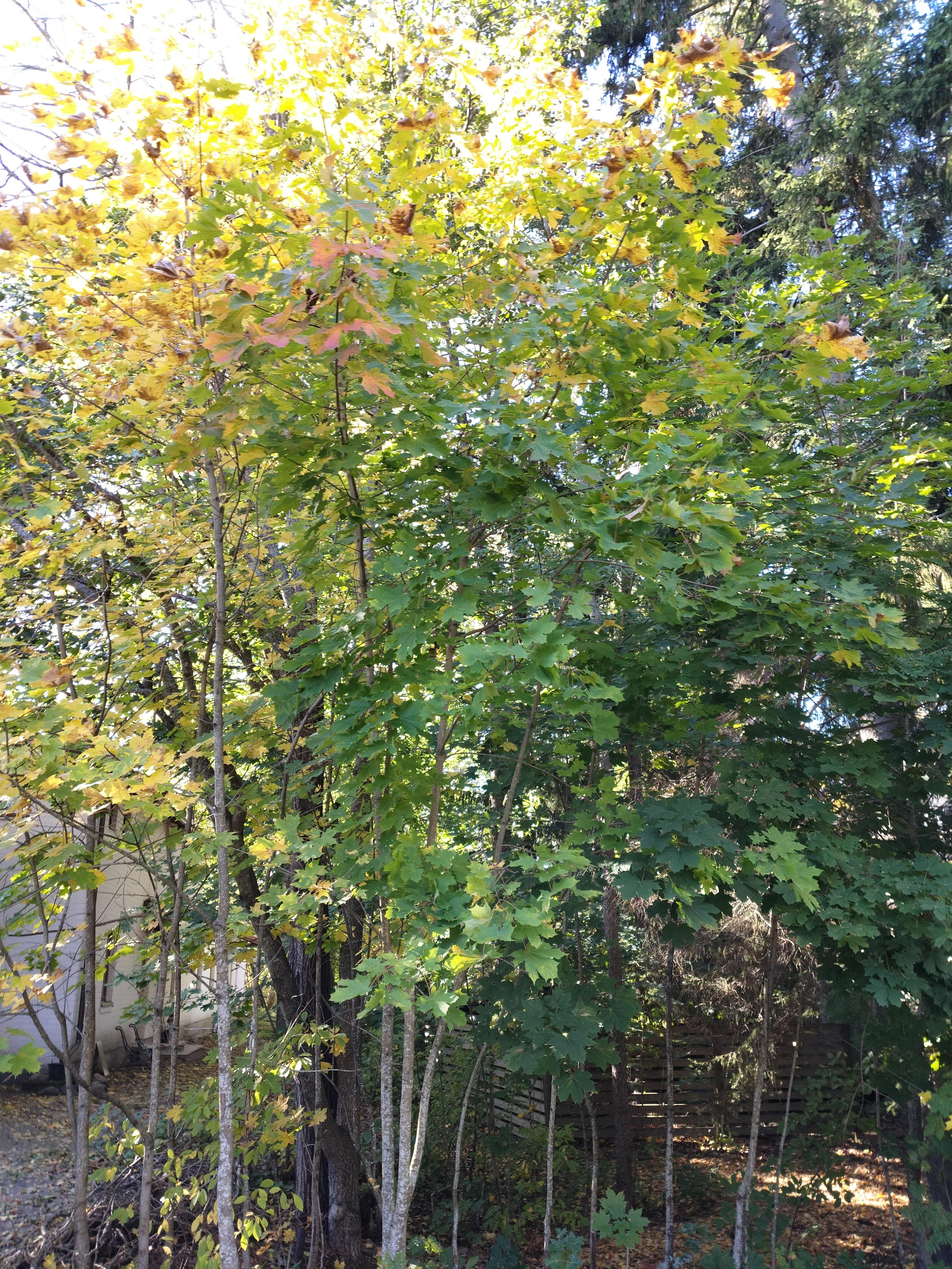Maple: (1, 1, 722, 1269)
